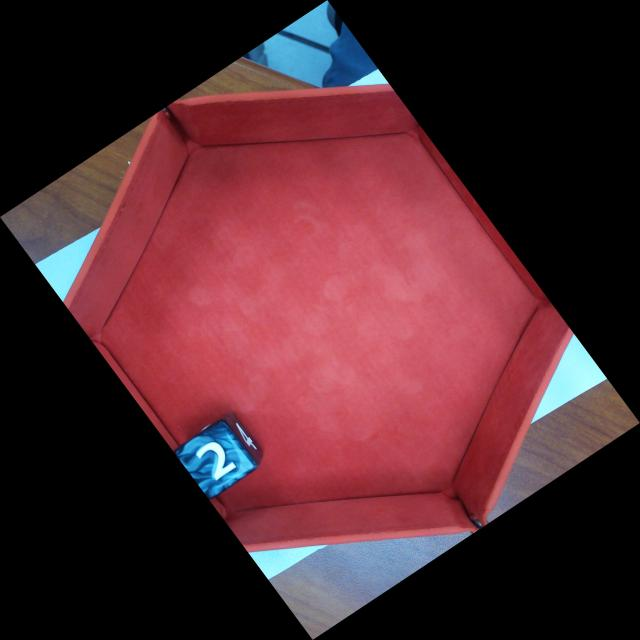dice: (172, 417, 261, 501)
